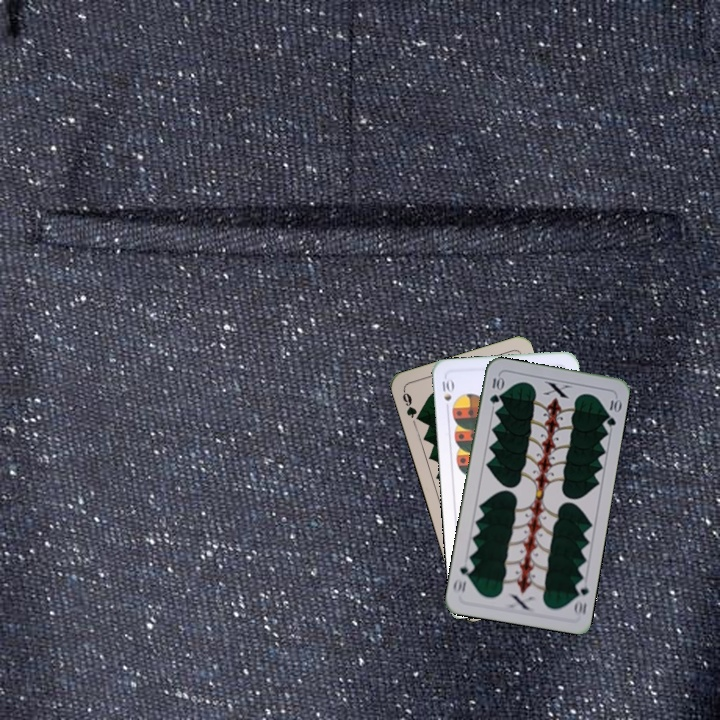G10: (570, 577, 591, 618), (486, 372, 505, 407)
G9: (398, 386, 424, 424)
S10: (436, 375, 456, 414)
